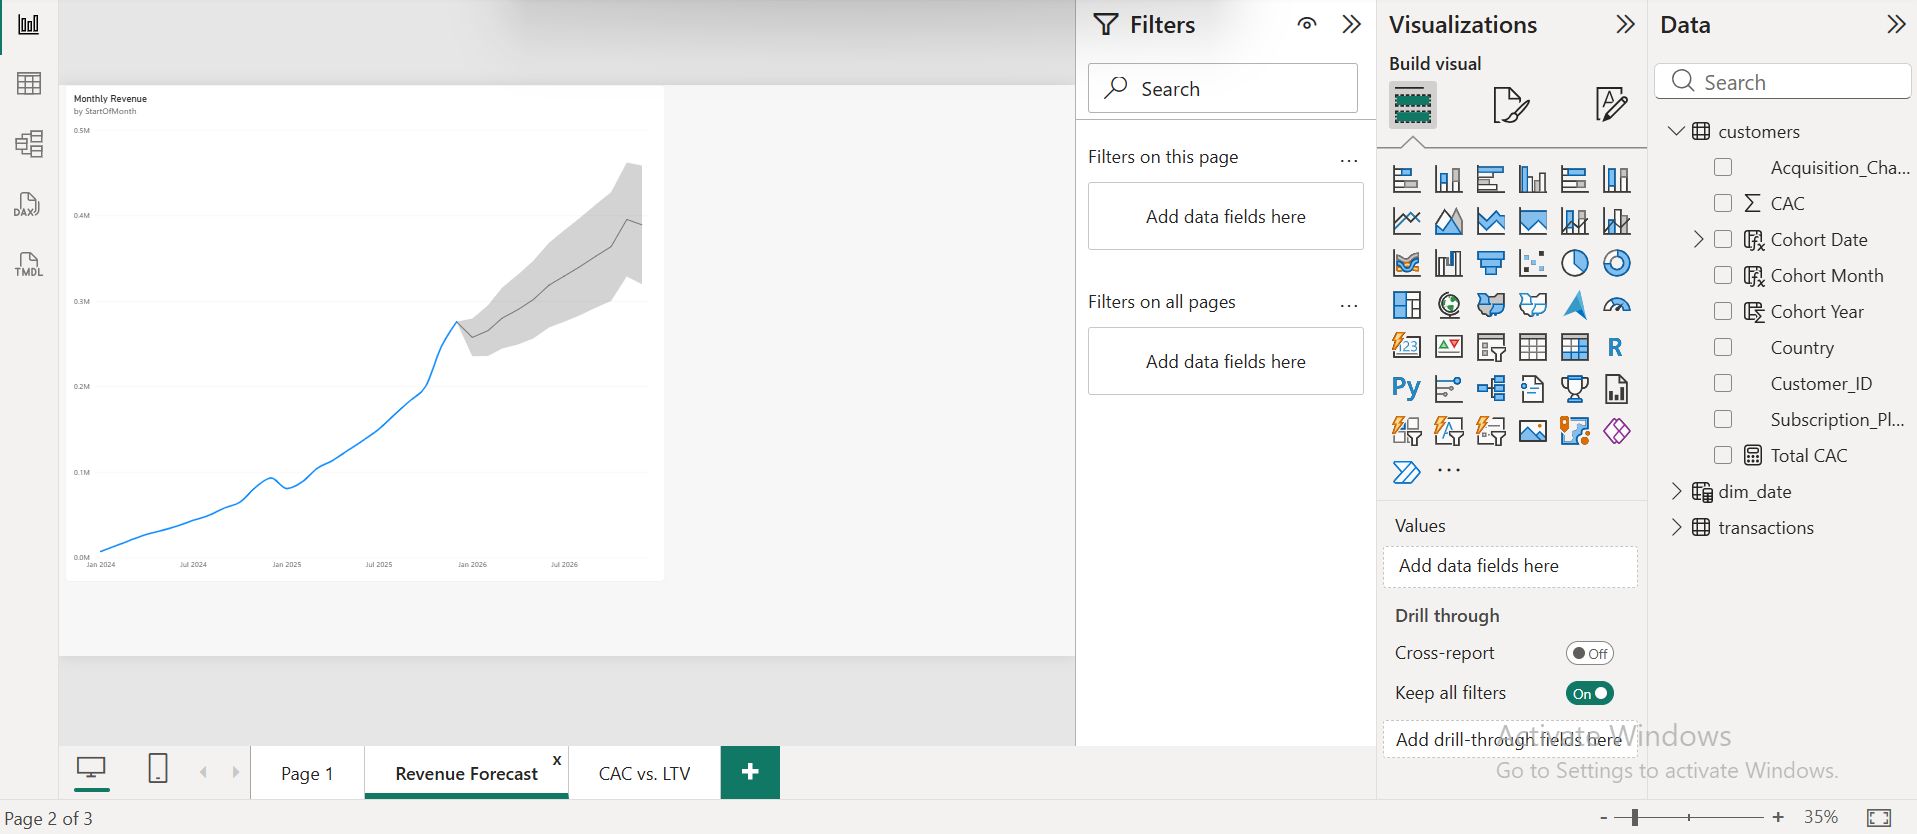

The page's visual inventory and layout, read from the dashboard file:
{"tool":"powerbi","page":{"name":"Revenue Forecast","canvas":[1920,1080],"ordinal":1},"visuals":[{"type":"lineChart","fields":{"Category":["dim_date.StartOfMonth"],"Y":["transactions.Monthly Revenue"]},"box":[11.3,0,1133.9,938.3],"z":0}]}

Visuals, with their boxes on the page's 1920x1080 design canvas (x1, y1, x2, y2). These are canvas units, not pixel positions in the 1917x834 screenshot, which may show the page scaled, cropped or inside an application window:
lineChart - dim_date.StartOfMonth x transactions.Monthly Revenue: 11, 0, 1145, 938
